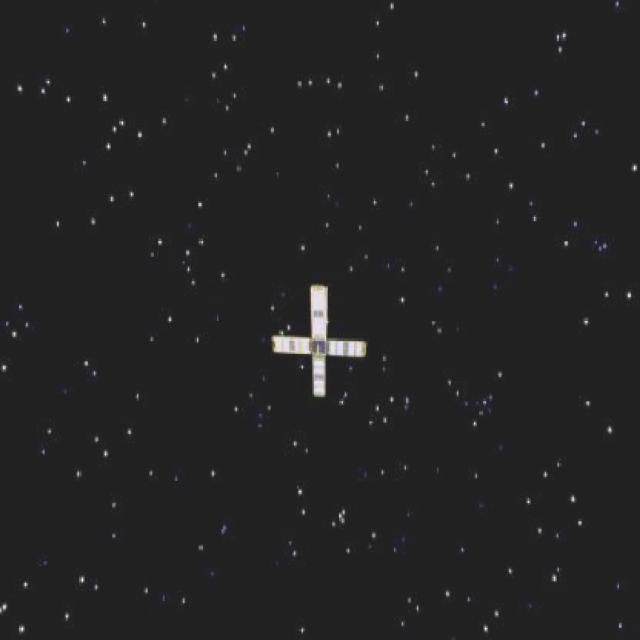medium_debris: (259, 275, 359, 413)
